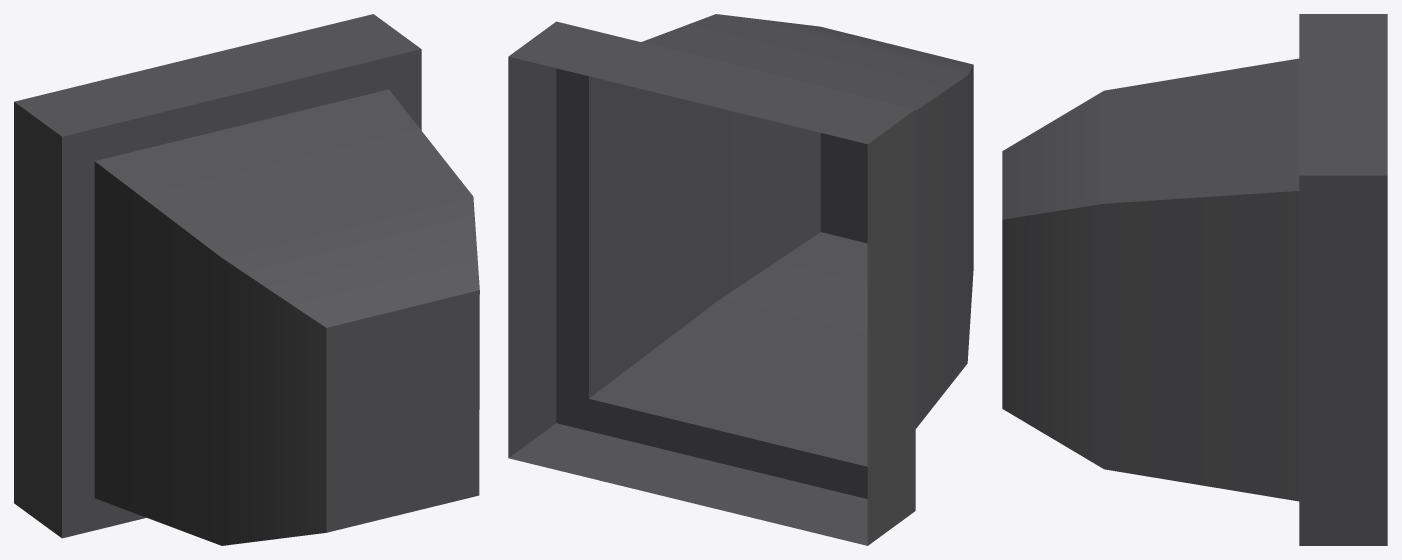
The model's file is SM_Bld_House_Plug_02.obj.
3 views of the same model, side by side, from view 1: azimuth 30°, elevation 25°; view 2: azimuth 150°, elevation 25°; view 3: azimuth 270°, elevation 25° (orthographic). The views are drawn at different scales.
Visible parts, largest first — view 1: SM_Bld_House_Plug_02_Mat_SwatchOverlay_PolygonTown_01_Inst; view 2: SM_Bld_House_Plug_02_Mat_SwatchOverlay_PolygonTown_01_Inst; view 3: SM_Bld_House_Plug_02_Mat_SwatchOverlay_PolygonTown_01_Inst.
Boxes of the visible parts, x1,y1,x2,y2 form: SM_Bld_House_Plug_02_Mat_SwatchOverlay_PolygonTown_01_Inst: (14,14,479,545); SM_Bld_House_Plug_02_Mat_SwatchOverlay_PolygonTown_01_Inst: (508,14,973,545); SM_Bld_House_Plug_02_Mat_SwatchOverlay_PolygonTown_01_Inst: (1002,14,1387,545).
Size of the model in its own units: 0.064 by 0.0683 by 0.0645.
1 material, 1 textured.
